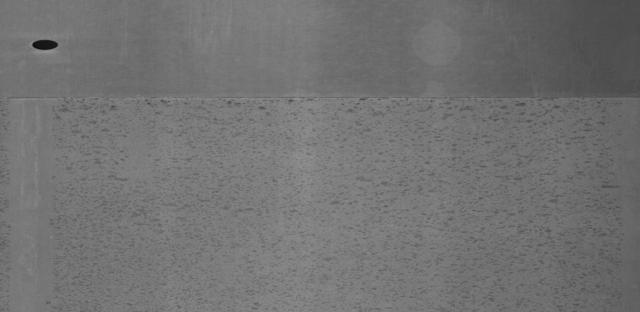punching_hole: (28, 38, 62, 54)
welding_line: (1, 88, 639, 105)
